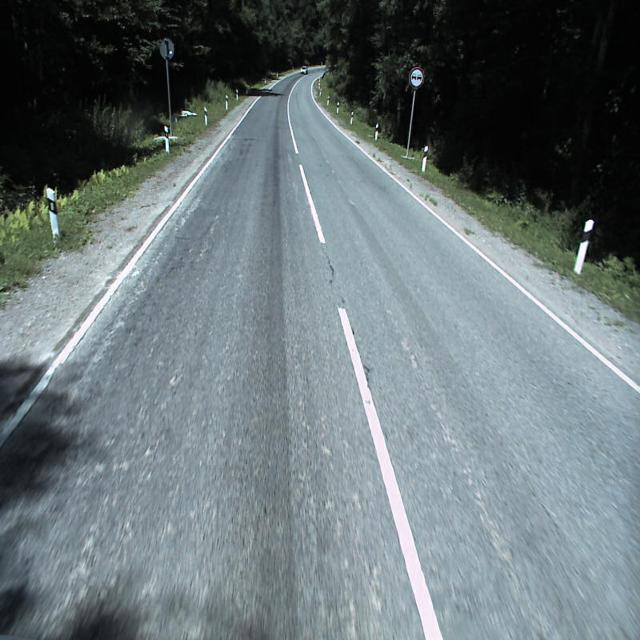road: (0, 66, 640, 639)
